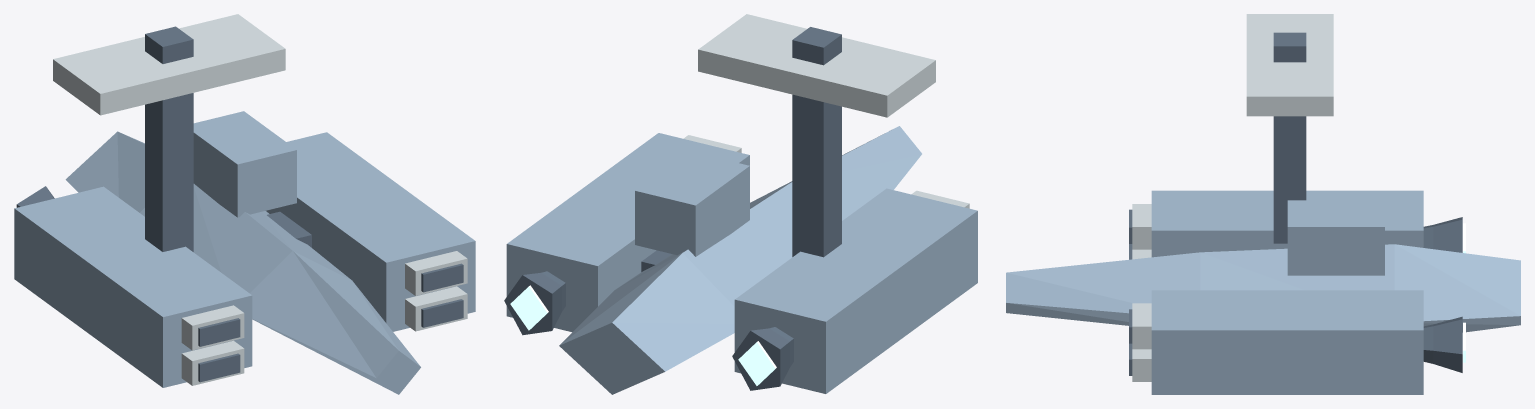
The picture shows the model from 3 angles, left to right: view 1: azimuth 30°, elevation 25°; view 2: azimuth 150°, elevation 25°; view 3: azimuth 270°, elevation 25°; orthographic projection. The views are drawn at different scales.
Size of the model in its own units: 6.28 by 5.45 by 9.47.
